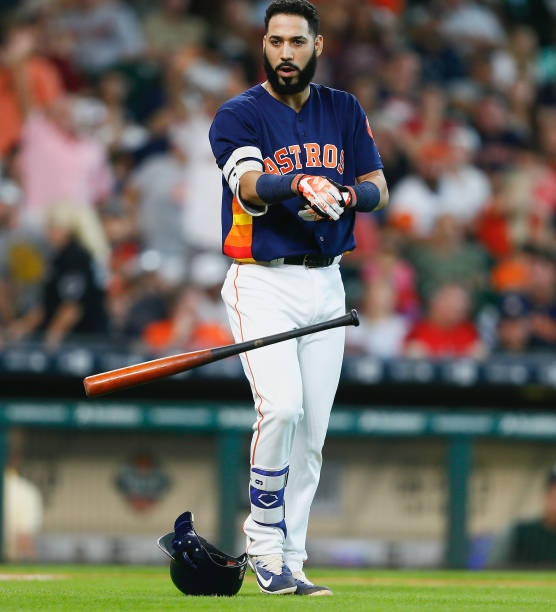bita: (78, 314, 361, 401)
